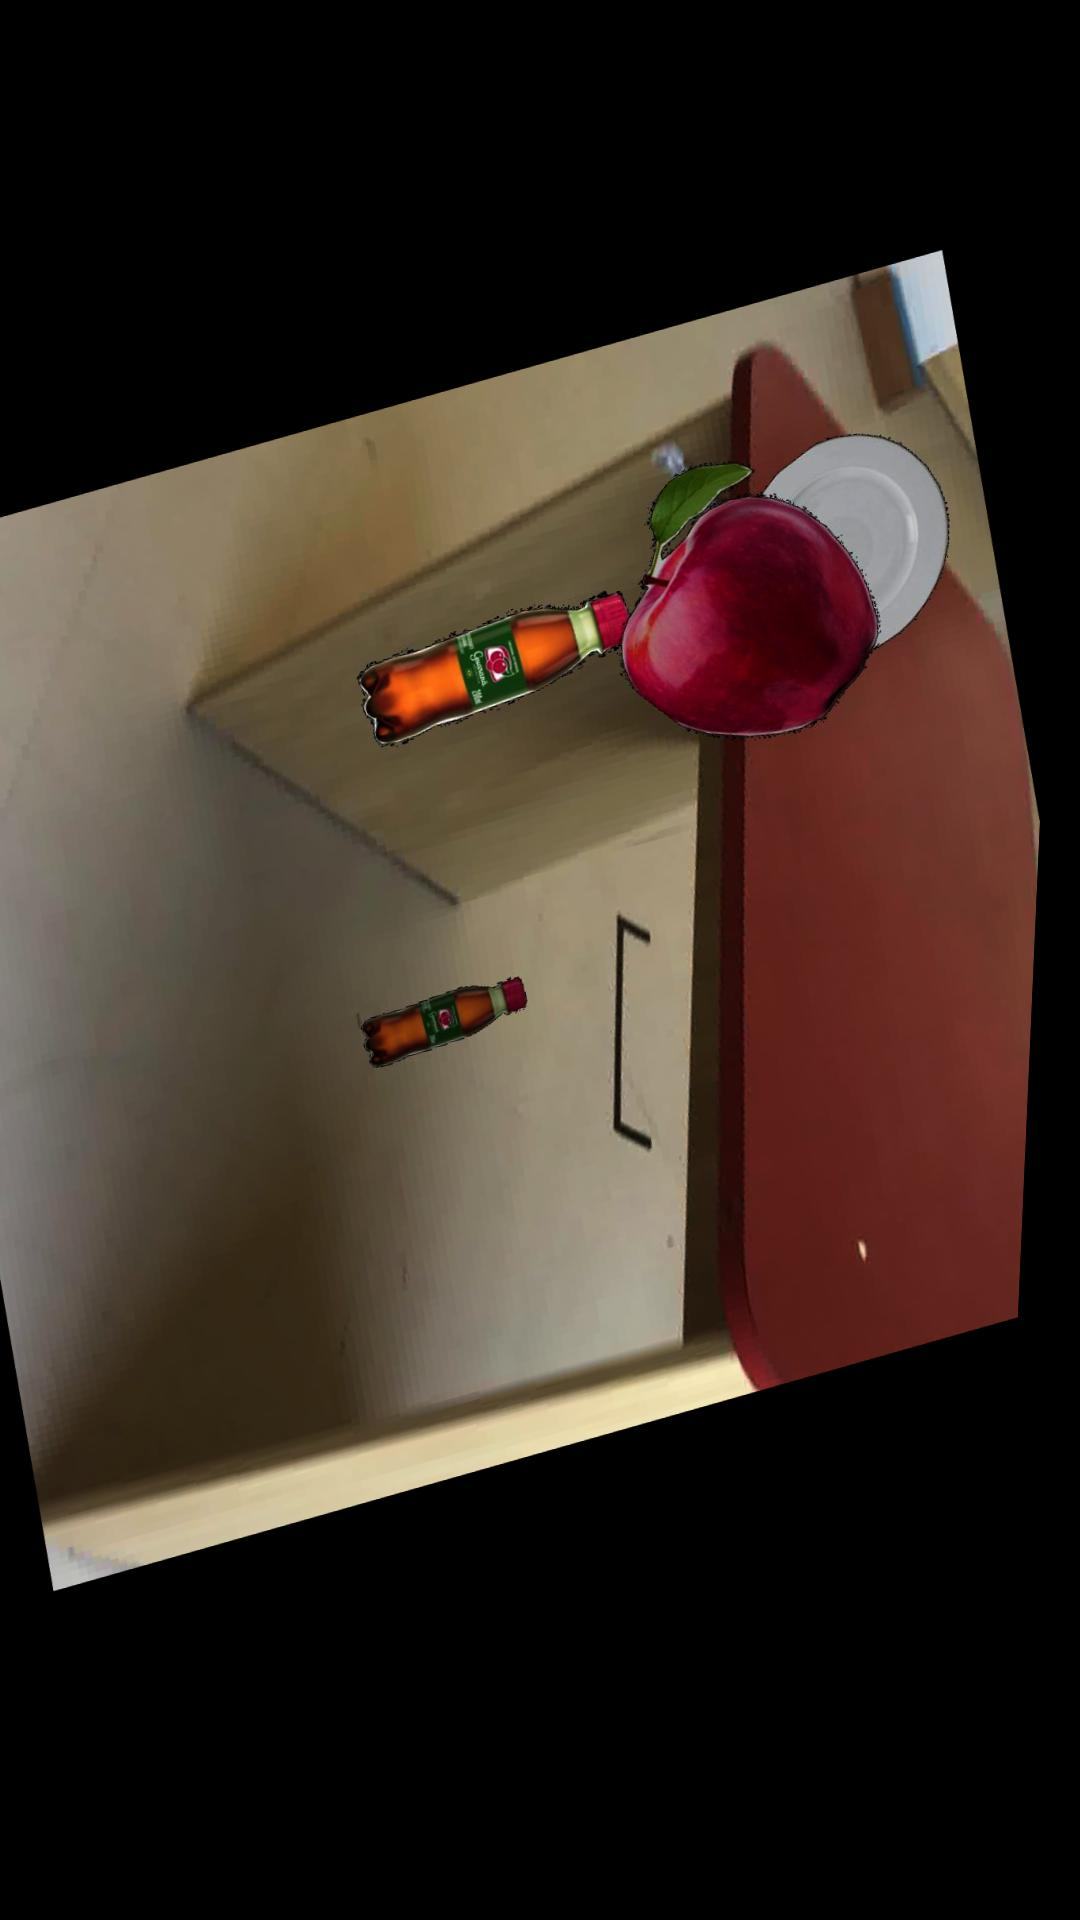apple: (628, 471, 886, 748)
guarana: (364, 599, 636, 750), (372, 982, 538, 1071)
plate: (766, 444, 956, 661)
